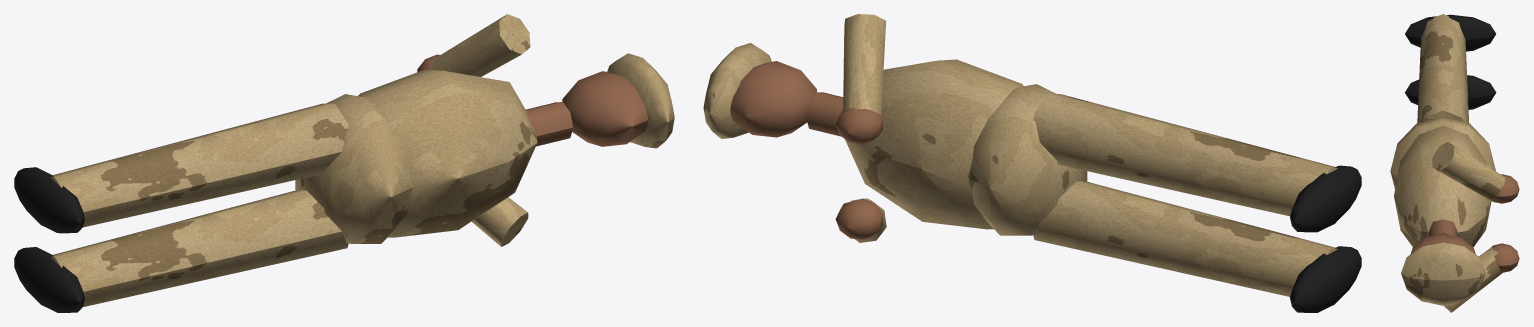
The model's file is person_camo_prone.obj.
3 views of the same model, side by side, from view 1: azimuth 30°, elevation 25°; view 2: azimuth 150°, elevation 25°; view 3: azimuth 270°, elevation 25° (orthographic). The views are drawn at different scales.
Size of the model in its own units: 1.8 by 0.6286 by 0.44.
3 materials, 1 textured.
